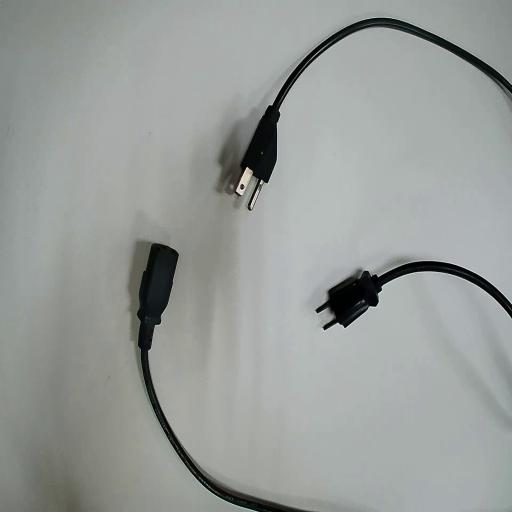wire: (235, 19, 511, 187), (137, 244, 300, 511), (317, 262, 511, 327)
